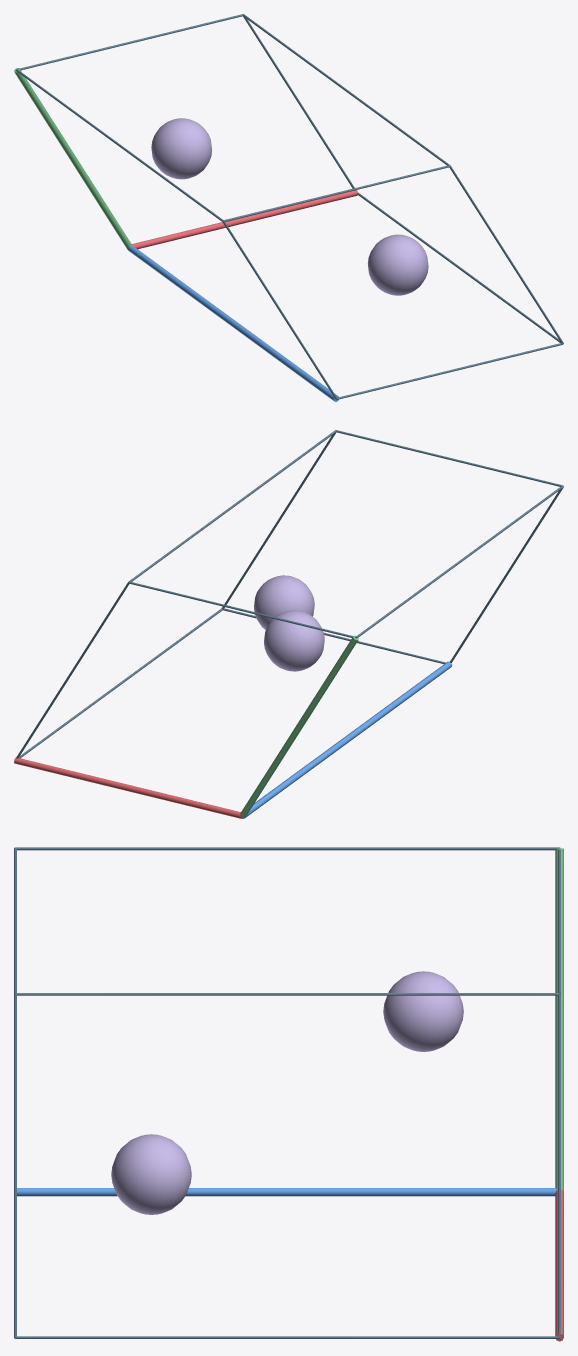
File: nguyen-to-os.glb
The picture shows the model from 3 angles, top to bottom: view 1: azimuth 30°, elevation 25°; view 2: azimuth 150°, elevation 25°; view 3: azimuth 270°, elevation 25°; orthographic projection. The views are drawn at different scales.
Visible parts, largest first — view 1: Ô mạng và các trục a, b, c, Os · Os · 1 (×2); view 2: Ô mạng và các trục a, b, c, Os · Os · 1 (×2); view 3: Ô mạng và các trục a, b, c, Os · Os · 1 (×2).
Part boxes in pixels (x1=…): Ô mạng và các trục a, b, c: x1=14, y1=14, x2=563, y2=401; Os · Os · 1 (×2): x1=151, y1=118, x2=428, y2=295; Ô mạng và các trục a, b, c: x1=14, y1=430, x2=563, y2=818; Os · Os · 1 (×2): x1=254, y1=575, x2=324, y2=671; Ô mạng và các trục a, b, c: x1=14, y1=847, x2=563, y2=1341; Os · Os · 1 (×2): x1=111, y1=971, x2=463, y2=1214.
Size of the model in its own units: 4.15 by 2.42 by 4.37.
